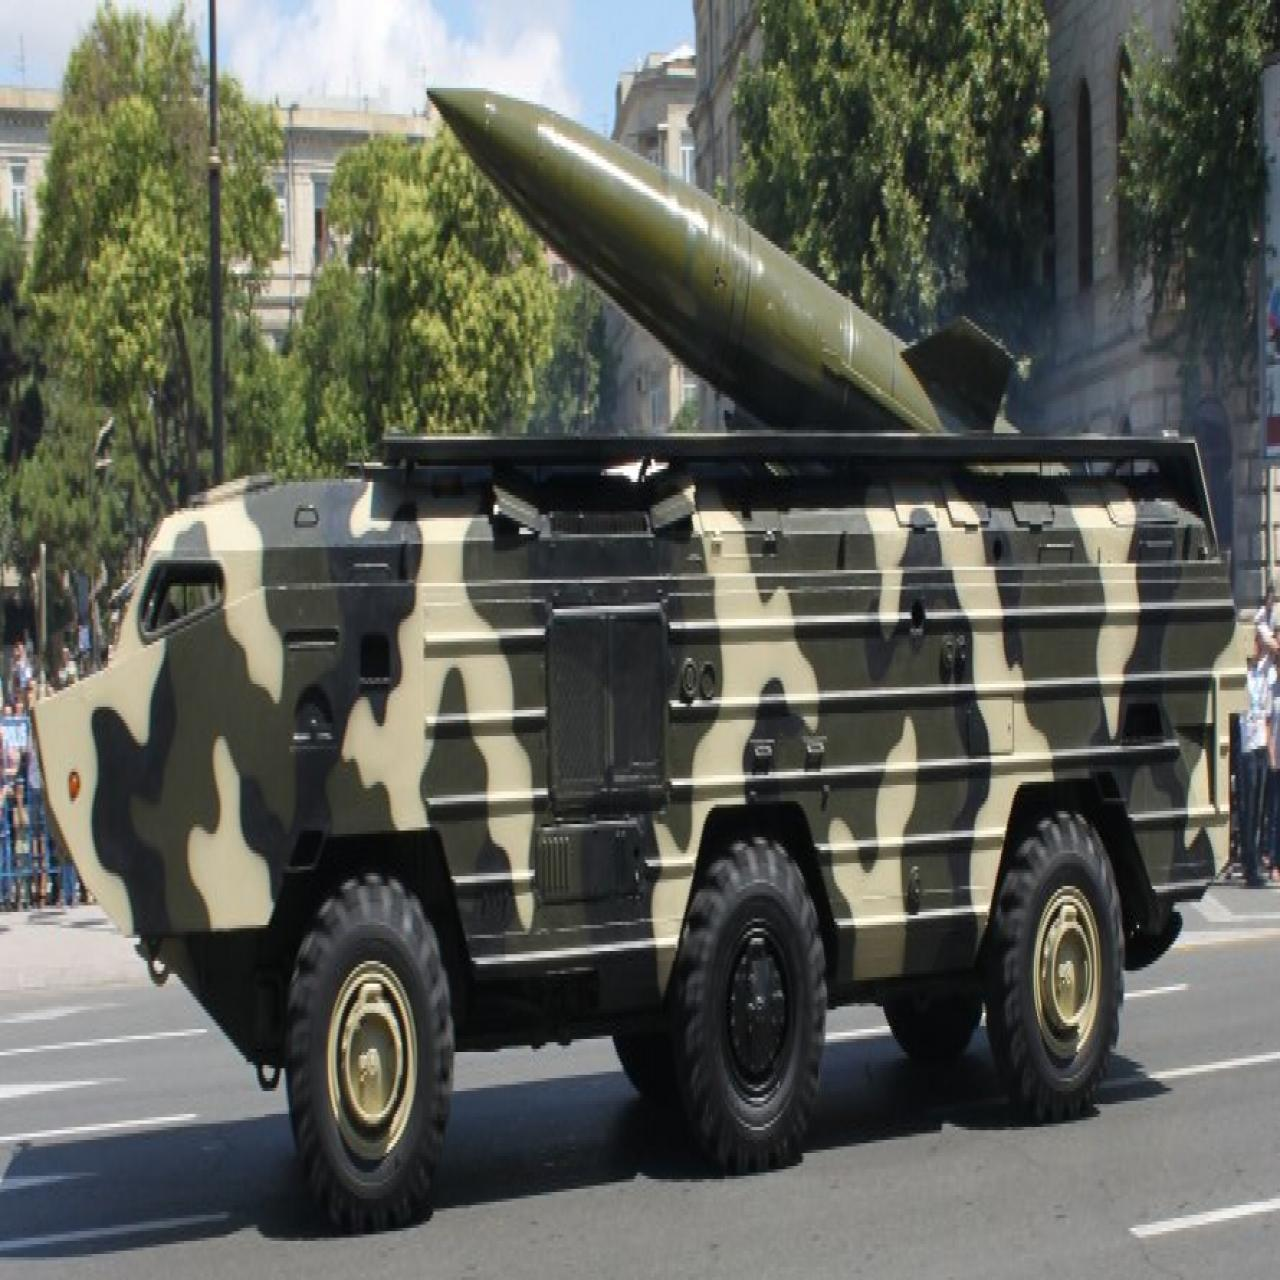MIL_Veh: (39, 84, 1242, 1233)
